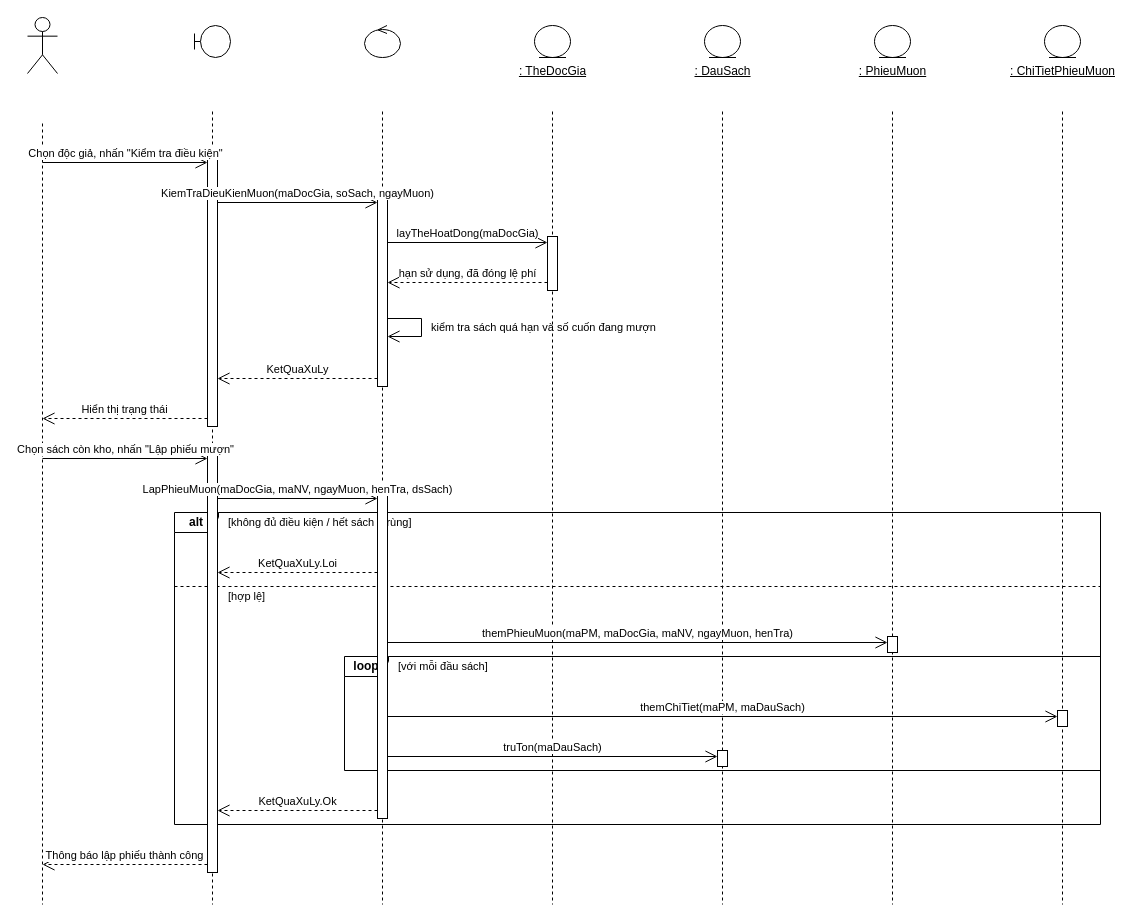
Some shapes in this 1132 by 923 pixel diagram are drawn without their labels. Each missing label, with the box of its shape:
: FrmMuonTra: (194, 24, 230, 58)
: MuonTraService: (364, 24, 400, 58)
: Thủ thư: (26, 16, 58, 74)
